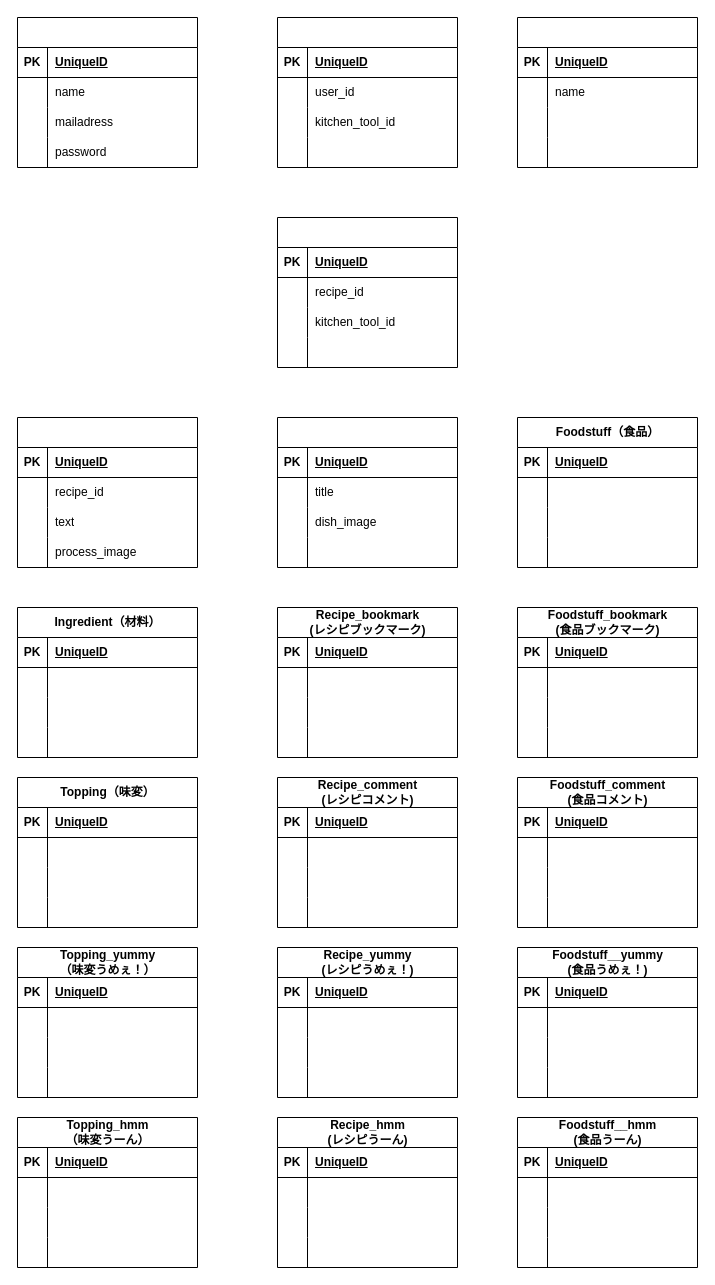
This 715x1285 diagram has some shape labels left out. Each missing label, with the box of its shape:
KitchenTool（調理器具）: (516, 16, 698, 168)
Process（調理工程）: (16, 416, 198, 568)
RecipeKitchenTool （必要調理器具）: (276, 216, 458, 368)
Recipe（レシピ）: (276, 416, 458, 568)
UserKitchenTool （所有調理器具）: (276, 16, 458, 168)
User（ユーザー）: (16, 16, 198, 168)
